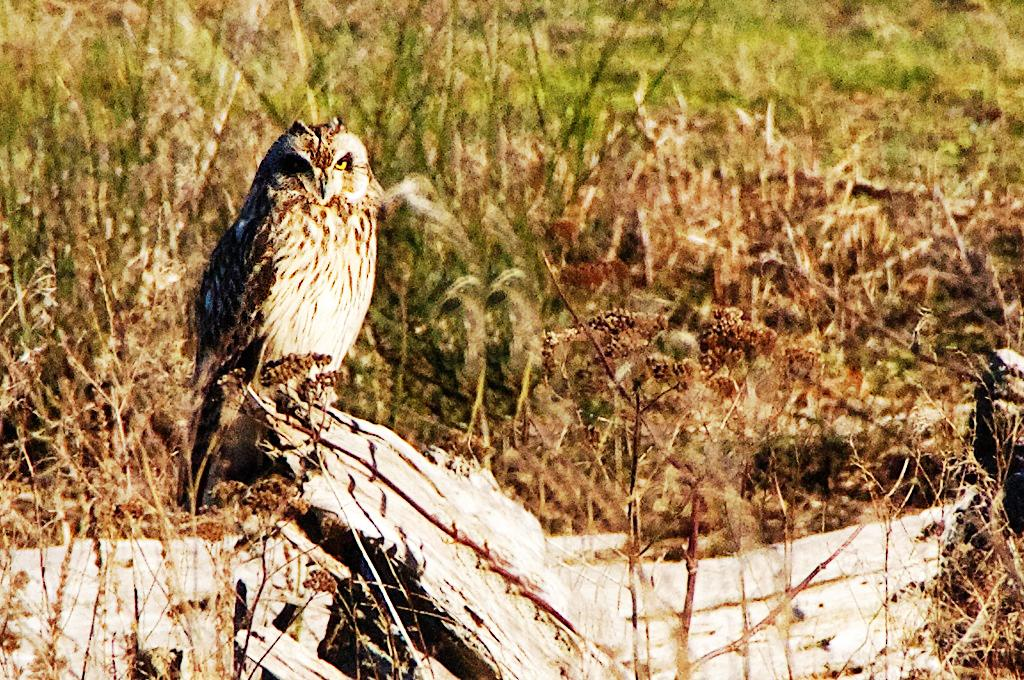Owl: (176, 118, 384, 518)
